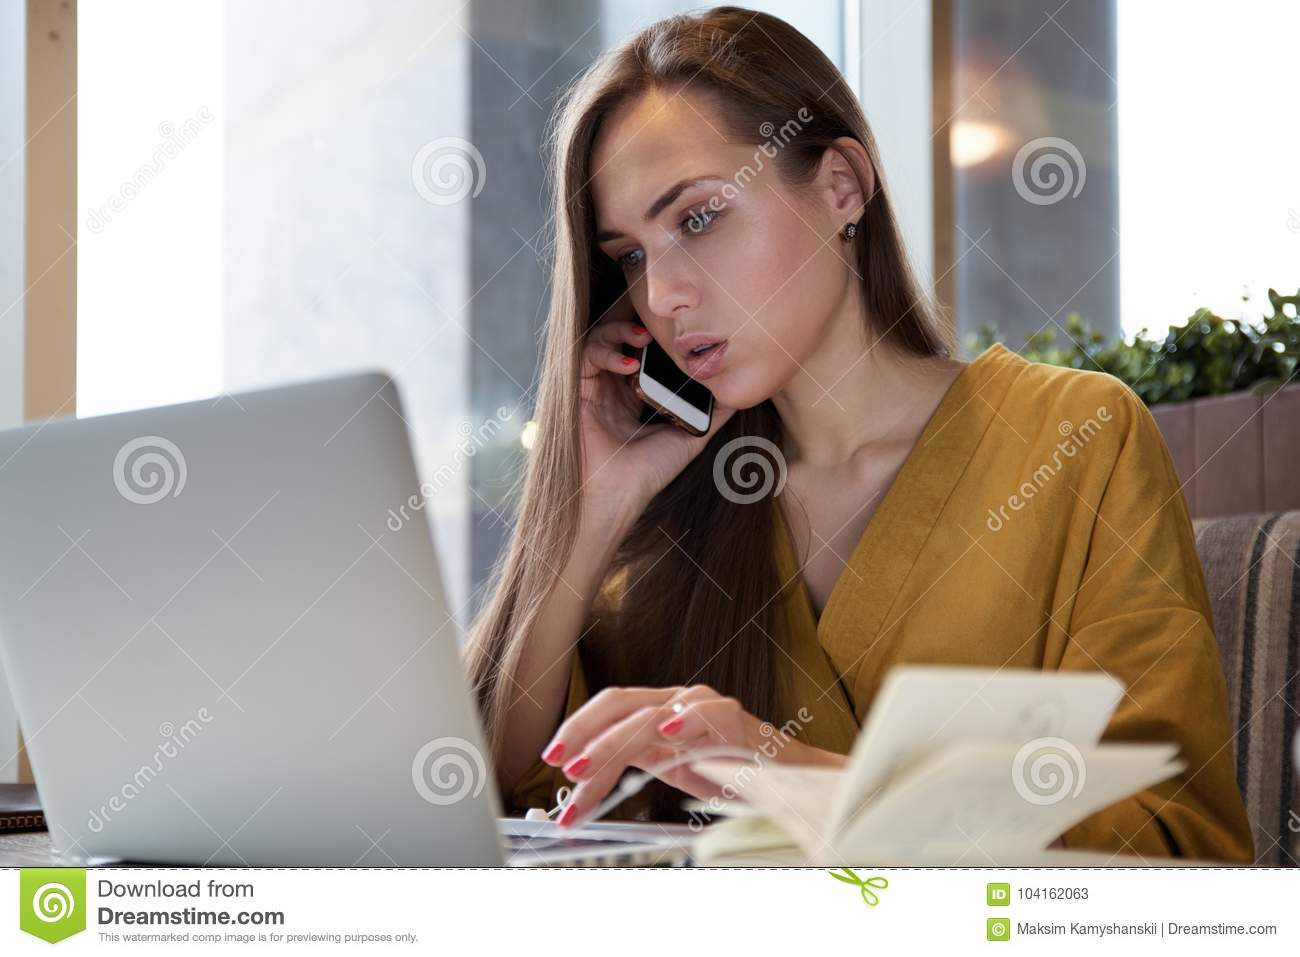phone: (631, 319, 726, 449)
talk: (547, 163, 764, 518)
